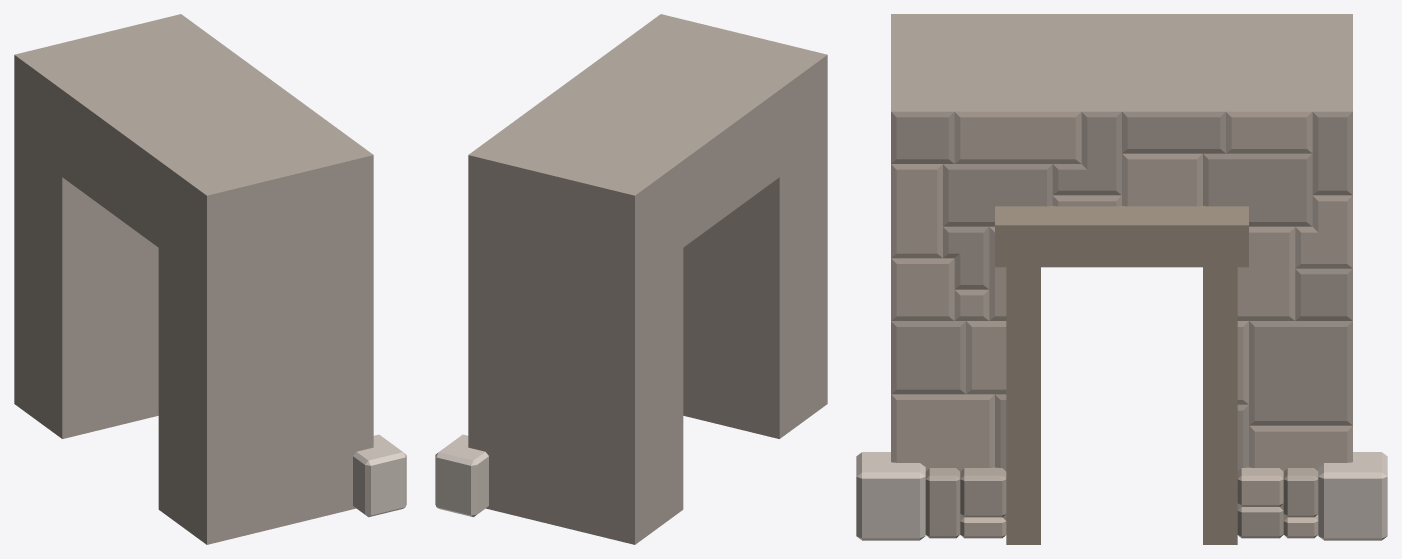
Rendered from Stone_Doorway_Wide_Tall_2.glb.
3 renders of one model, left to right at view 1: azimuth 30°, elevation 25°; view 2: azimuth 150°, elevation 25°; view 3: azimuth 270°, elevation 25°, orthographic. The views are drawn at different scales.
Parts seen in each view (by area): view 1: object4, object5; view 2: object4, object3; view 3: object4, object1, object3, object5, object2, object6.
Boxes of the visible parts, x1,y1,x2,y2 form: object4: [14, 14, 373, 544]; object5: [353, 434, 406, 517]; object4: [468, 14, 827, 544]; object3: [435, 434, 488, 517]; object4: [891, 14, 1352, 471]; object1: [995, 206, 1248, 544]; object3: [1318, 452, 1387, 540]; object5: [856, 452, 925, 540]; object2: [1237, 467, 1318, 538]; object6: [925, 467, 1006, 538].
Bounding box in the file's own units: 1.2 × 2 × 2.3.
